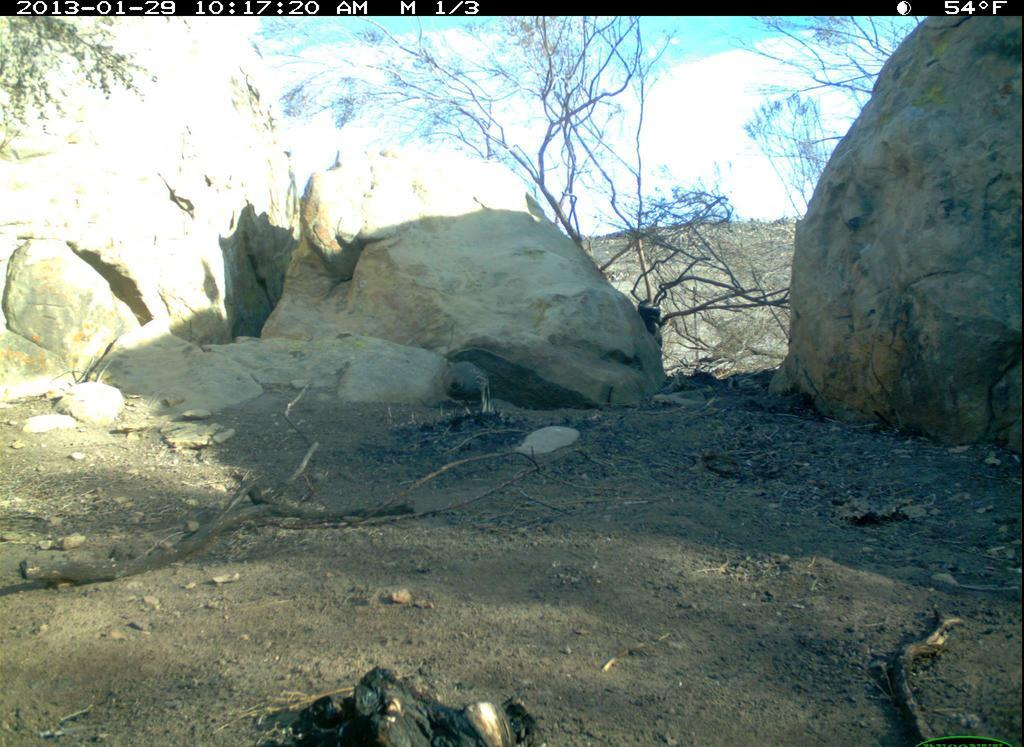bird: (434, 341, 500, 425)
